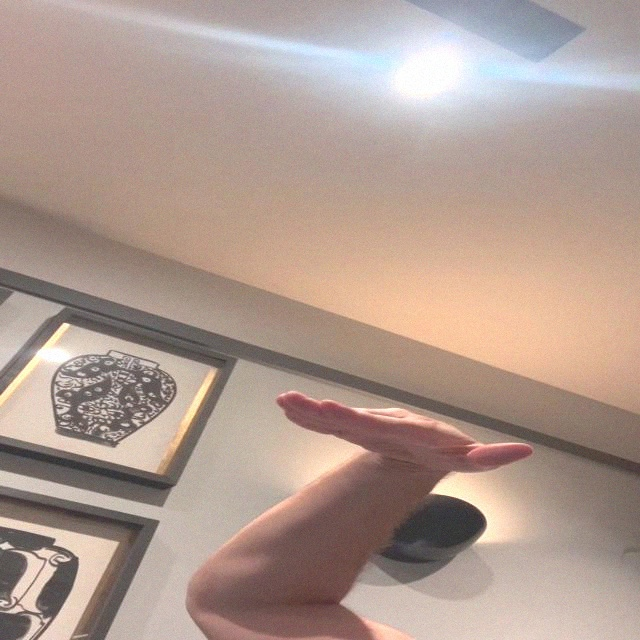Paper: (276, 391, 536, 473)
